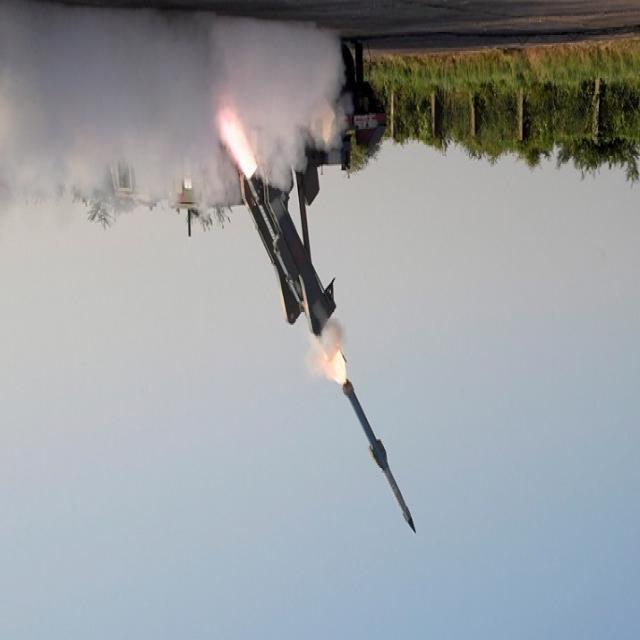missile: (339, 377, 415, 532)
